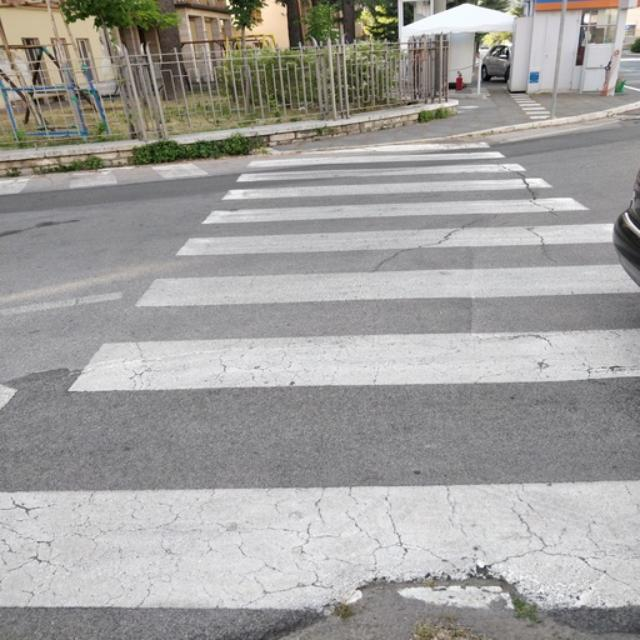sidewalk: (0, 140, 640, 606)
